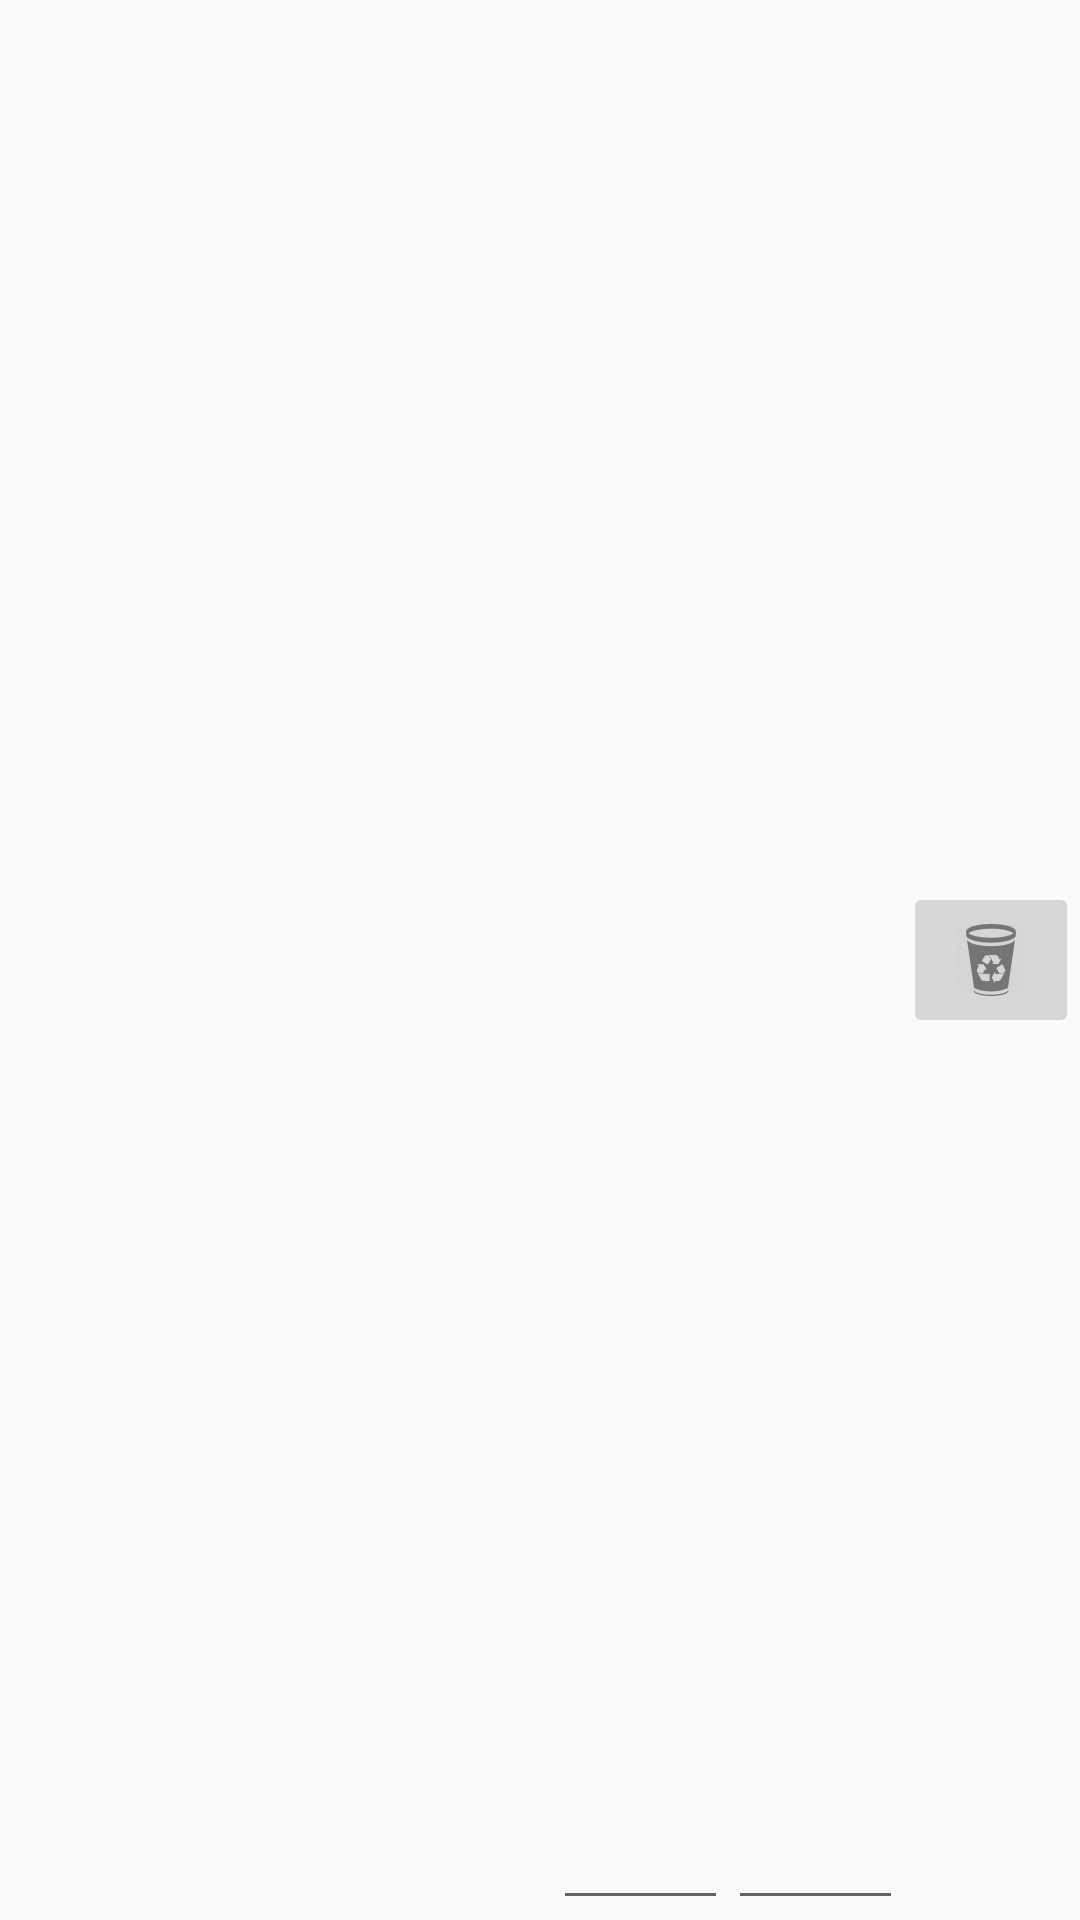

Screen size 1080px×1920px. Icon name, then its box in pixels as {"left": x1, "top": y1, "right": x2, "bottom": y2}:
trash: {"left": 915, "top": 900, "right": 1067, "bottom": 1020}
